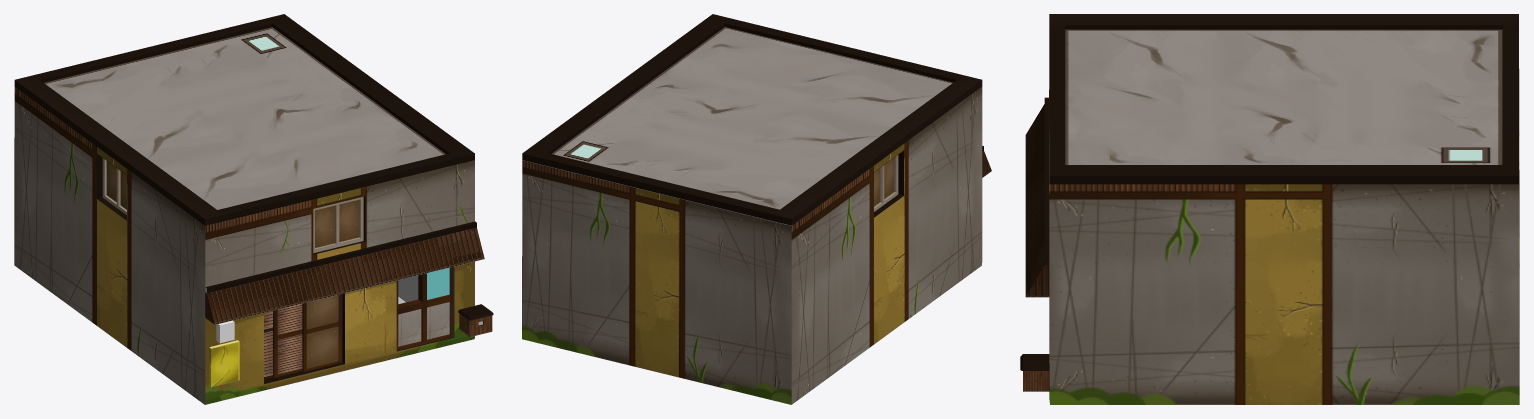
Rendered from House_4_Yellow.fbx.
3 renders of one model, left to right at view 1: azimuth 30°, elevation 25°; view 2: azimuth 150°, elevation 25°; view 3: azimuth 270°, elevation 25°, orthographic. The views are drawn at different scales.
Parts seen in each view (by area): view 1: Cube.052, Cube.045, Cube.048, Cube.043, Cube.046, Cube.051, Cube.044, Cube.049, Cube.061; view 2: Cube.052, Cube.044; view 3: Cube.052, Cube.049.
Boxes of the visible parts, <box> form: Cube.052: <box>14,14,484,404</box>; Cube.045: <box>396,267,453,350</box>; Cube.048: <box>302,294,342,371</box>; Cube.043: <box>313,196,363,253</box>; Cube.046: <box>273,303,302,377</box>; Cube.051: <box>209,340,239,387</box>; Cube.044: <box>102,158,126,214</box>; Cube.049: <box>458,304,493,336</box>; Cube.061: <box>264,311,272,379</box>; Cube.052: <box>522,14,991,404</box>; Cube.044: <box>874,155,898,211</box>; Cube.052: <box>1025,14,1519,404</box>; Cube.049: <box>1020,354,1049,391</box>.
Size of the model in its own units: 893 by 571 by 1129.
